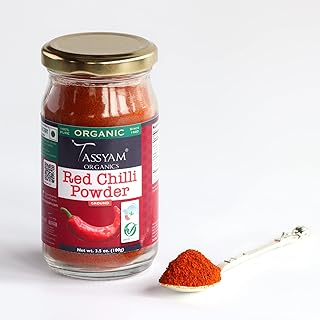Chilli Powder: (42, 38, 158, 280)
